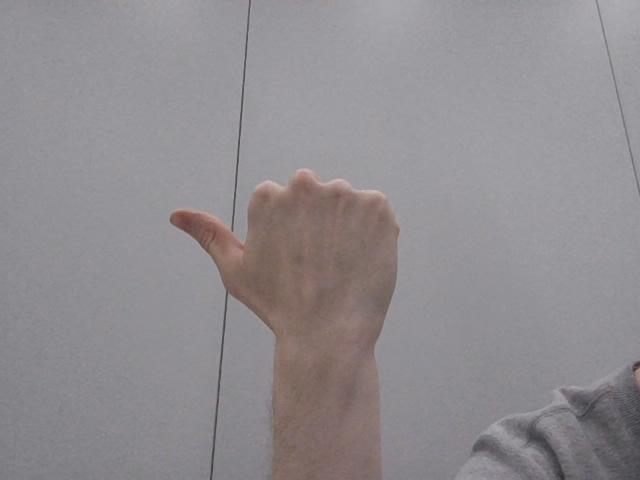right: (124, 143, 431, 397)
